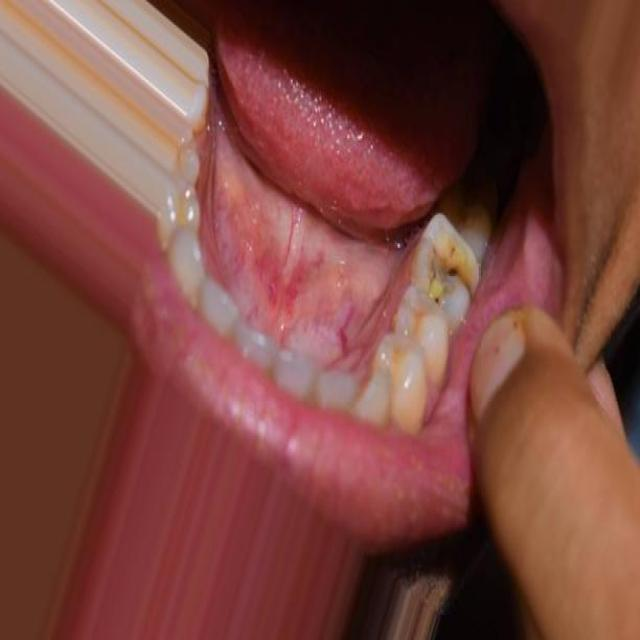caries: (416, 224, 475, 308)
